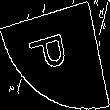P_E: (30, 30, 80, 80)
